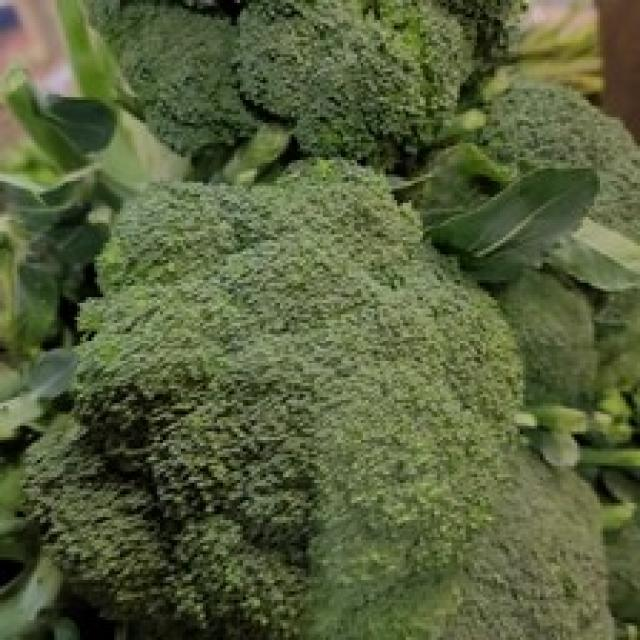Broccoli: (61, 183, 615, 639), (86, 372, 93, 378)
